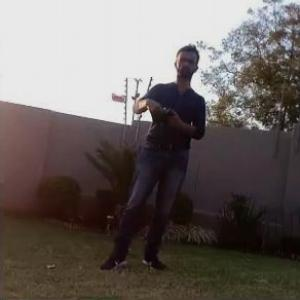follow: (95, 36, 210, 274)
